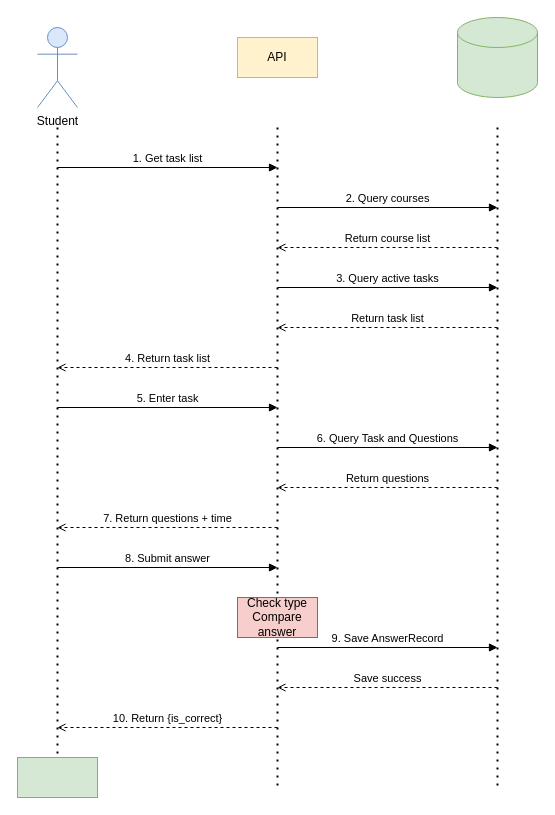
Some shapes in this 555 by 815 pixel diagram are drawn without their labels. The centre of each missing label's shape, as x and y in pixels:
"Database" goes at point 497,57.
"Show feedback" goes at point 57,777.
